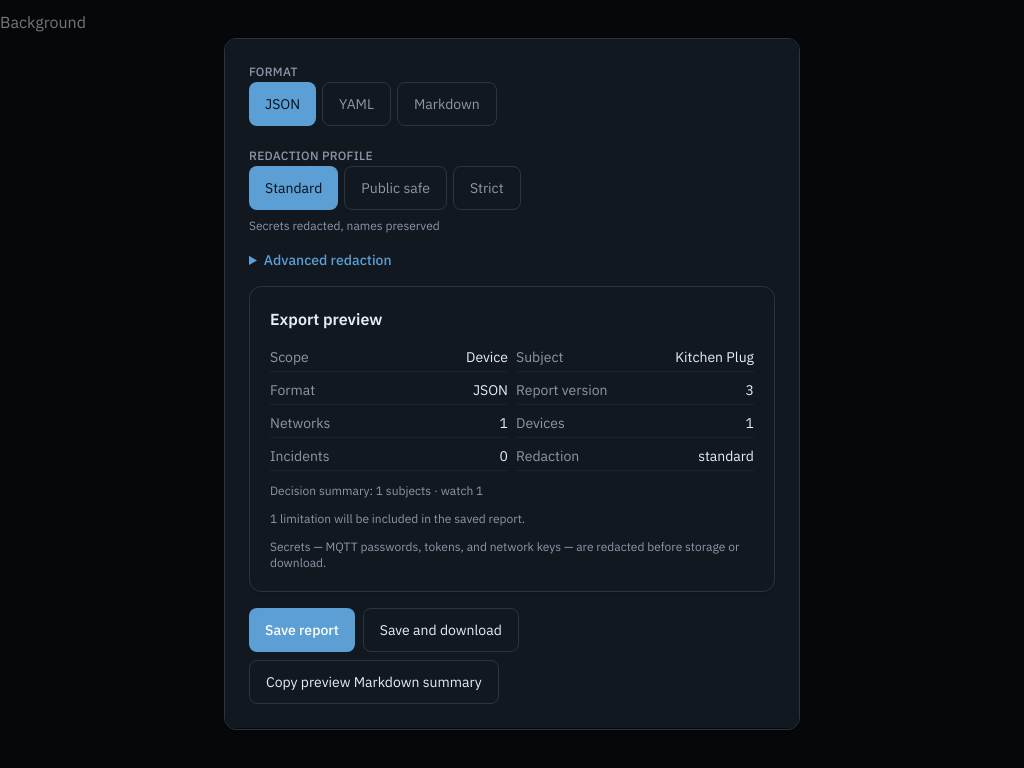
Test: ContextualReportDialog › Escape does not close while creating
(page scrolled)
Expected: the text "Decision summary: 1 subjects · watch 1" is shown, [270,483,483,498]
Click the button "Save report". click: point(302, 630)
box: [249,608,355,652]
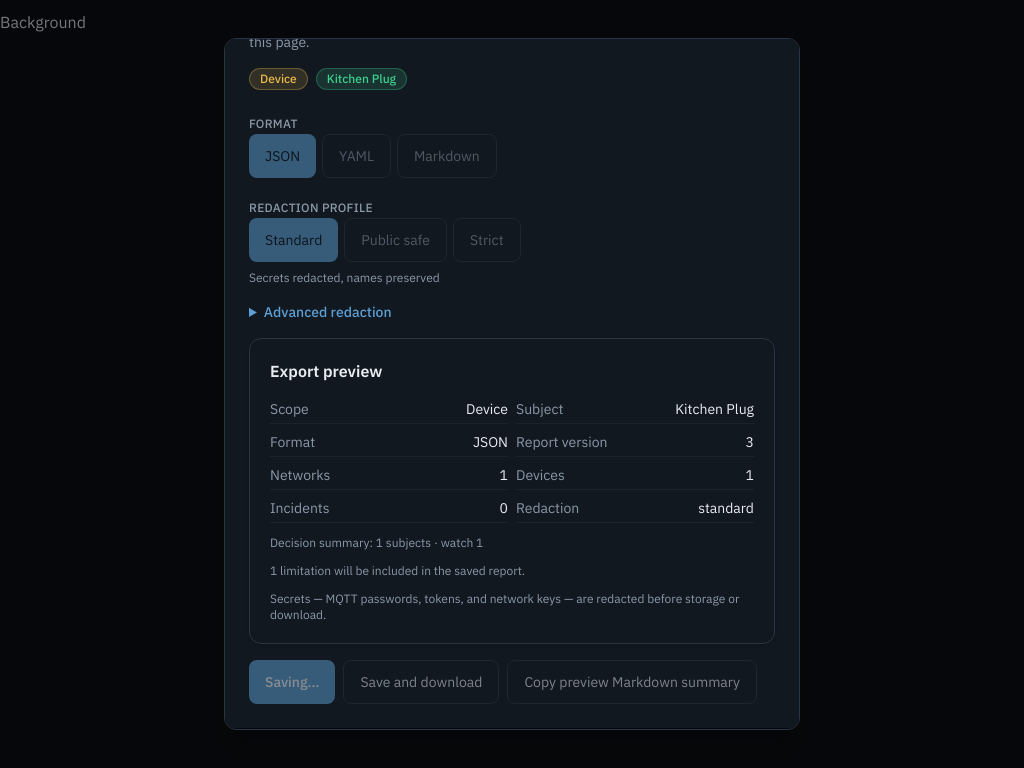
Press Escape
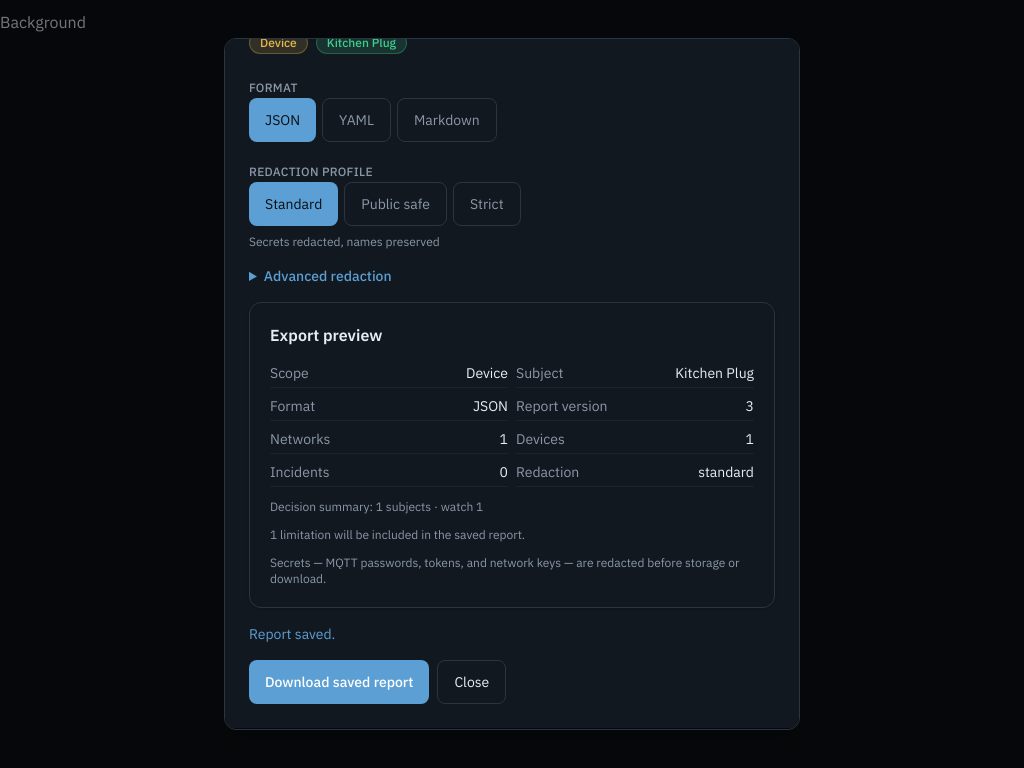
Now the text "Report saved." is shown, box [249,625,335,643]
